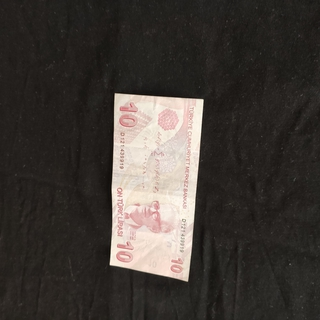10TLBack: (108, 91, 205, 283)
